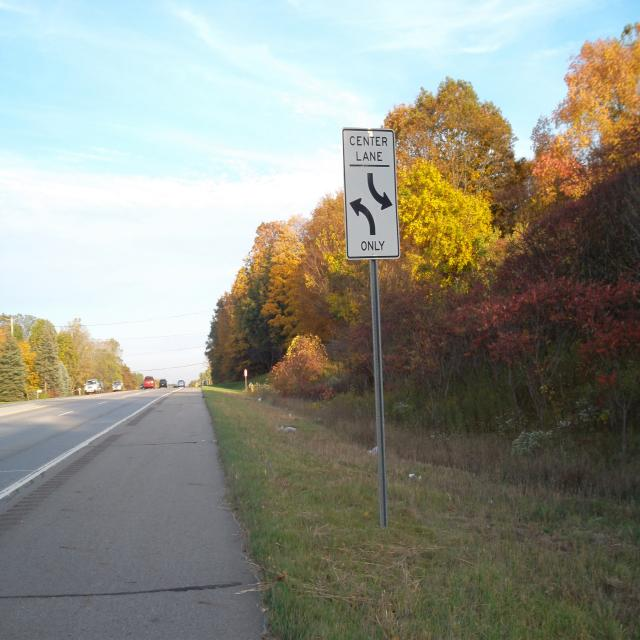regulatory: (339, 126, 402, 261)
